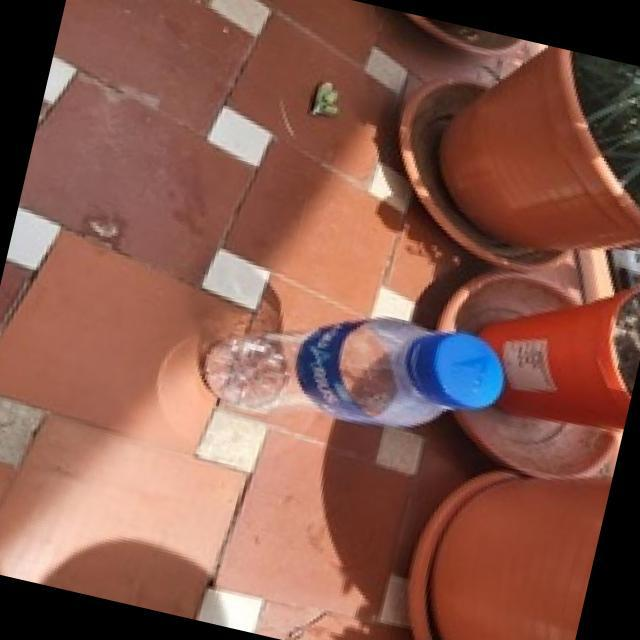good: (178, 270, 511, 465)
